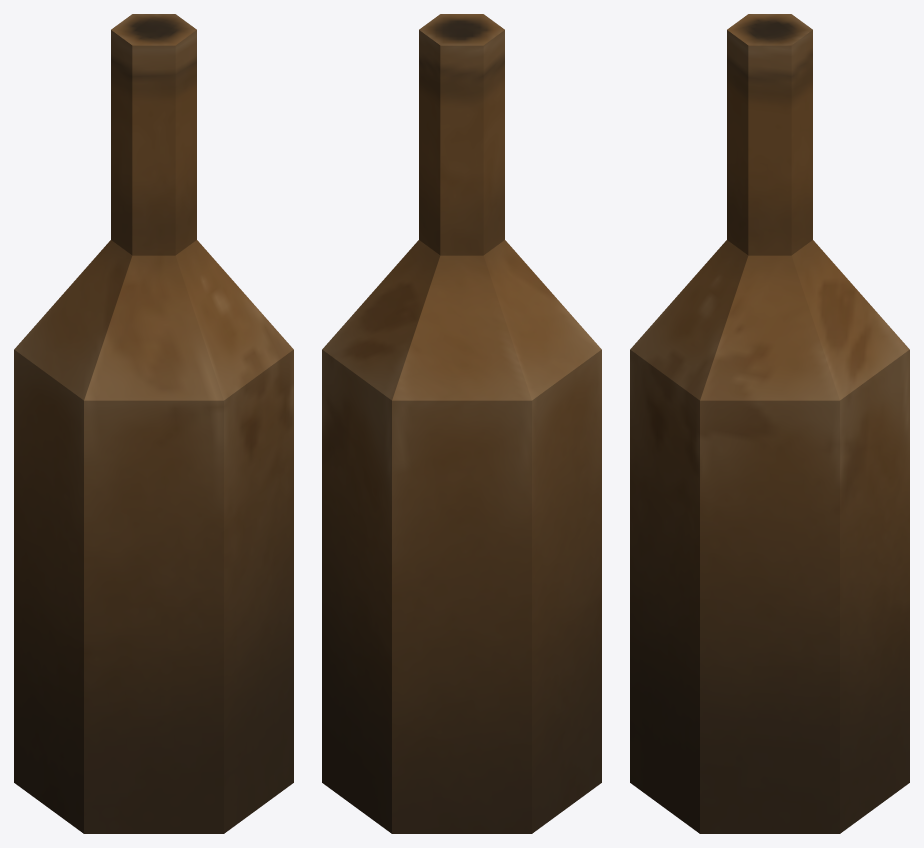
File: Bottle.Beer.fbx
The picture shows the model from 3 angles, left to right: view 1: azimuth 30°, elevation 25°; view 2: azimuth 150°, elevation 25°; view 3: azimuth 270°, elevation 25°; orthographic projection.
Visible parts, largest first — view 1: Bottle.Beer; view 2: Bottle.Beer; view 3: Bottle.Beer.
Part boxes in pixels (x1=…): Bottle.Beer: x1=14, y1=14, x2=293, y2=833; Bottle.Beer: x1=322, y1=14, x2=601, y2=833; Bottle.Beer: x1=630, y1=14, x2=909, y2=833.
Bounding box in the file's own units: 7.42 × 25.46 × 8.57.
